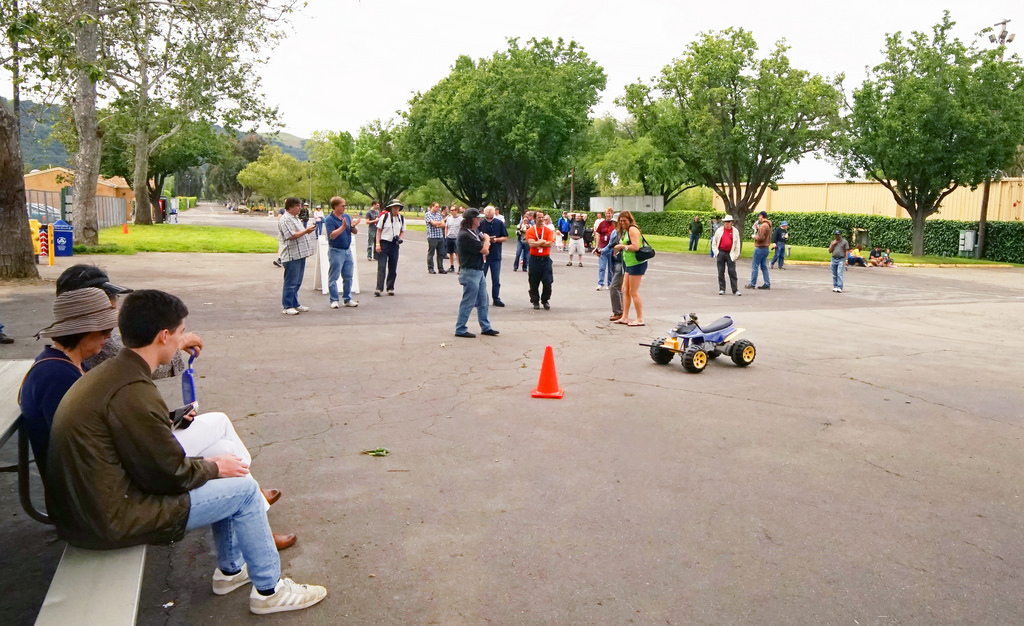trafficcone: (530, 344, 566, 401)
